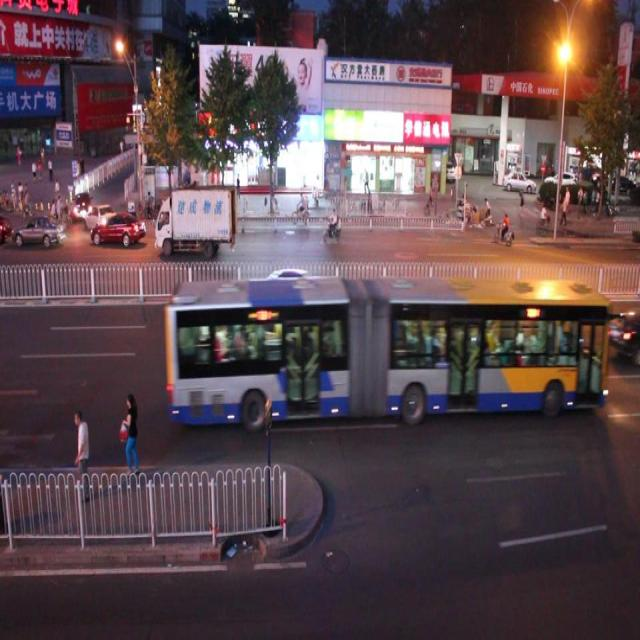bus: (155, 188, 236, 255)
car: (166, 185, 223, 232), (11, 202, 65, 241), (90, 211, 147, 246), (85, 200, 116, 230), (70, 190, 94, 223)
van: (165, 280, 606, 408)
